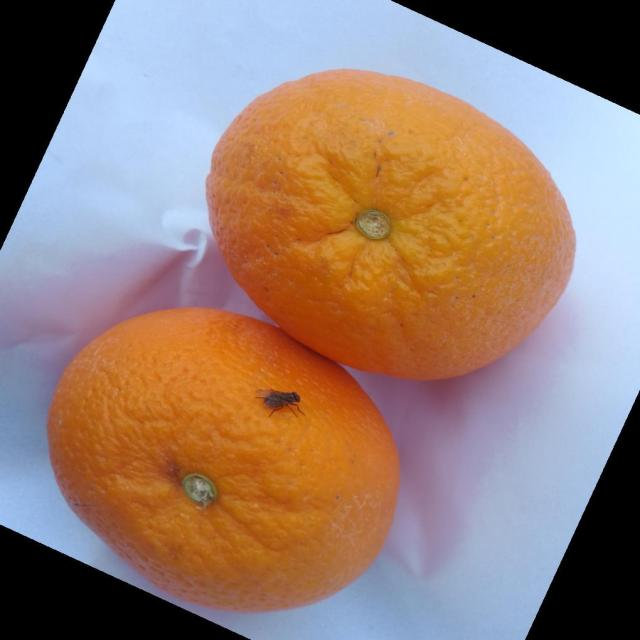fresh orange: (204, 66, 577, 382), (46, 305, 401, 614)
